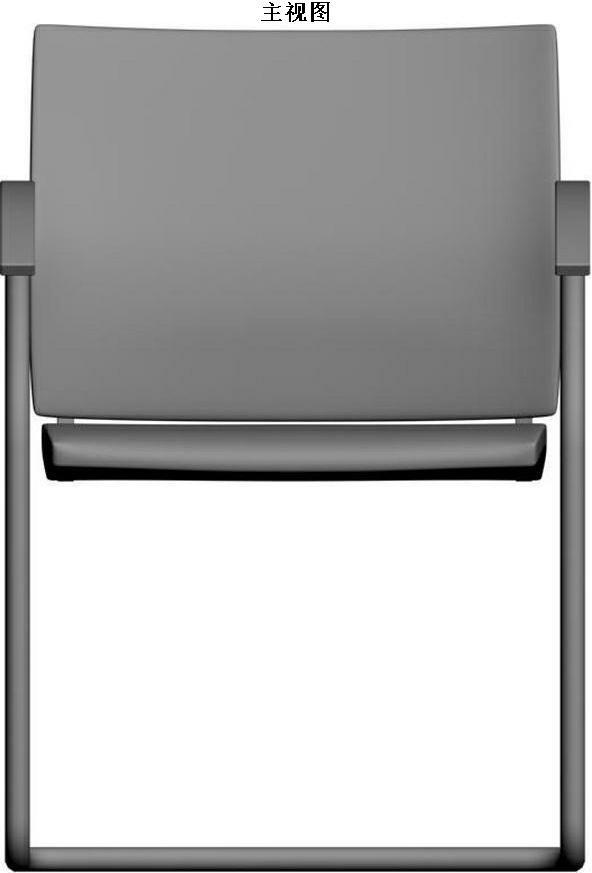obstacle: (3, 26, 583, 870)
